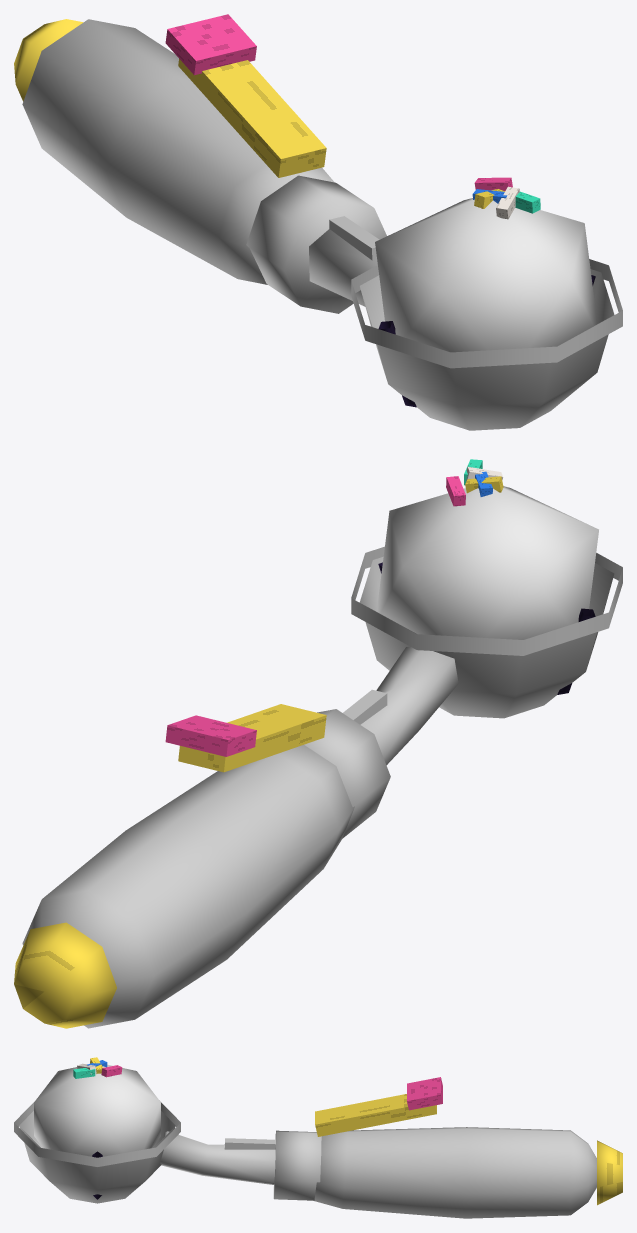
File: Scooper.fbx
3 renders of one model, top to bottom at view 1: azimuth 30°, elevation 25°; view 2: azimuth 150°, elevation 25°; view 3: azimuth 270°, elevation 25°, orthographic. The views are drawn at different scales.
Parts seen in each view (by area): view 1: Scooper handle, Scooper scoop, Scooper bowl, Scooper ferrule, Scooper thumb lever.001, Scooper bowl lip, Scooper lever pad, Scooper neck, Scooper end cap, Scooper lever arm; view 2: Scooper handle, Scooper scoop, Scooper bowl, Scooper end cap, Scooper neck, Scooper bowl lip, Scooper ferrule, Scooper thumb lever.001, Scooper lever pad, Scooper lever arm; view 3: Scooper handle, Scooper scoop, Scooper bowl, Scooper neck, Scooper ferrule, Scooper thumb lever.001, Scooper bowl lip, Scooper end cap, Scooper lever pad, Scooper lever arm.
Boxes of the visible parts, bbox=[...] form: Scooper handle: bbox=[22, 19, 334, 284]; Scooper scoop: bbox=[375, 198, 597, 352]; Scooper bowl: bbox=[360, 269, 614, 430]; Scooper ferrule: bbox=[246, 175, 386, 313]; Scooper thumb lever.001: bbox=[178, 59, 326, 177]; Scooper bowl lip: bbox=[351, 259, 622, 368]; Scooper lever pad: bbox=[165, 14, 256, 75]; Scooper neck: bbox=[309, 229, 377, 306]; Scooper end cap: bbox=[14, 19, 83, 101]; Scooper lever arm: bbox=[329, 216, 379, 260]; Scooper handle: bbox=[22, 745, 354, 1028]; Scooper scoop: bbox=[376, 486, 598, 639]; Scooper bowl: bbox=[359, 556, 614, 718]; Scooper end cap: bbox=[14, 922, 116, 1028]; Scooper neck: bbox=[360, 647, 458, 765]; Scooper bowl lip: bbox=[351, 546, 622, 655]; Scooper ferrule: bbox=[304, 709, 390, 838]; Scooper thumb lever.001: bbox=[178, 704, 326, 772]; Scooper lever pad: bbox=[165, 715, 256, 756]; Scooper lever arm: bbox=[343, 689, 387, 724]; Scooper handle: bbox=[313, 1127, 596, 1218]; Scooper scoop: bbox=[34, 1064, 160, 1156]; Scooper bowl: bbox=[19, 1111, 175, 1203]; Scooper neck: bbox=[160, 1131, 275, 1184]; Scooper ferrule: bbox=[273, 1130, 321, 1200]; Scooper thumb lever.001: bbox=[315, 1094, 436, 1136]; Scooper bowl lip: bbox=[14, 1102, 180, 1166]; Scooper end cap: bbox=[597, 1140, 622, 1205]; Scooper lever pad: bbox=[407, 1077, 442, 1110]; Scooper lever arm: bbox=[224, 1138, 275, 1149].
Bounding box in the file's own units: 0.096 × 0.0995 × 0.35.
